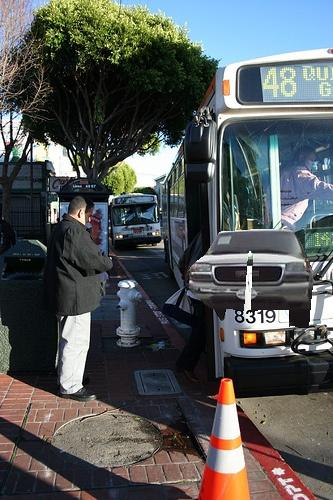tampered: (186, 230, 313, 328)
